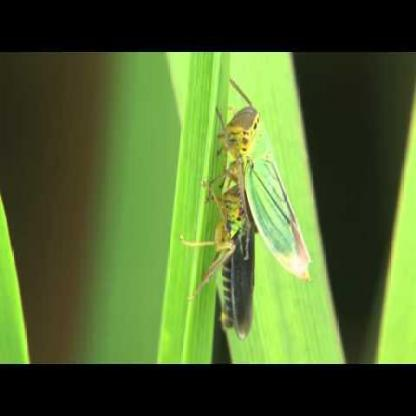Green-Leafhopper: (204, 78, 311, 284), (182, 157, 260, 347)
